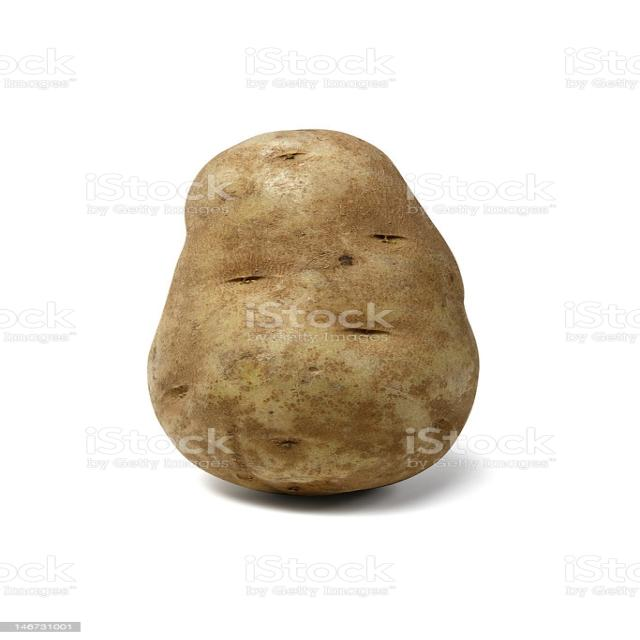potato: (145, 130, 480, 497)
